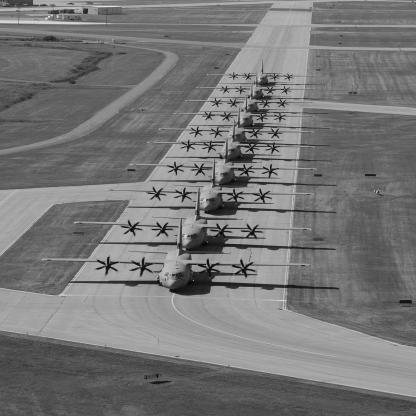C130: (42, 218, 312, 294), (75, 188, 313, 252), (106, 159, 315, 215), (130, 139, 319, 186), (148, 120, 316, 161), (160, 108, 315, 145), (175, 94, 317, 128), (186, 83, 317, 113), (197, 72, 317, 100), (208, 61, 317, 87)
